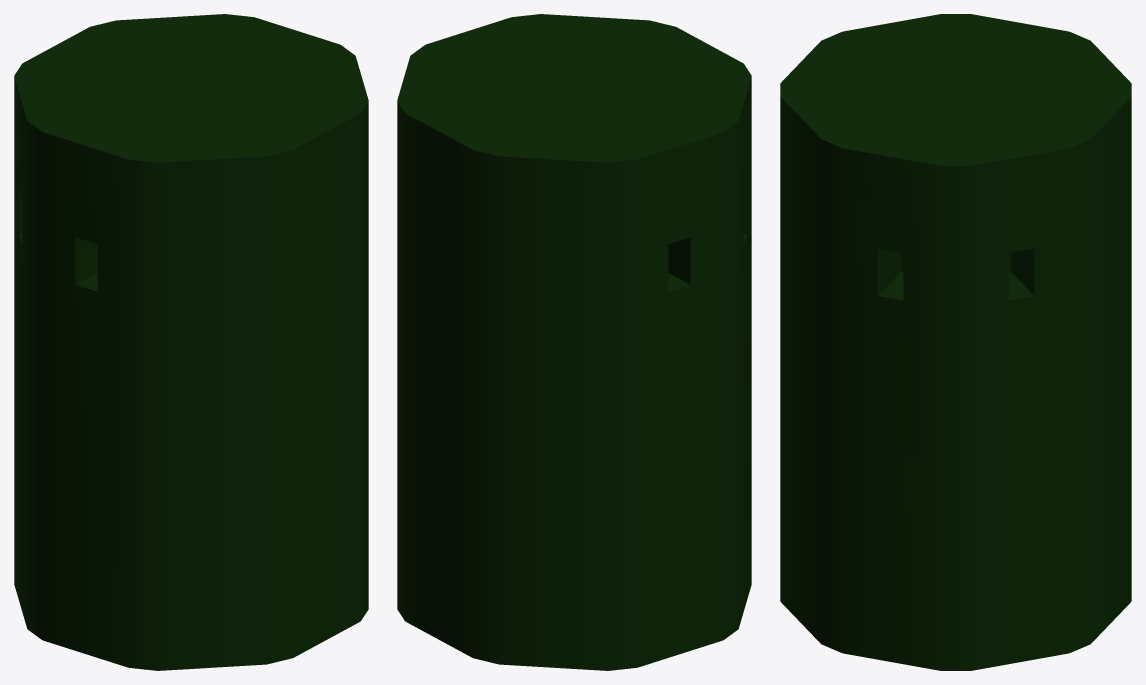
The model's file is round-tower-3.fbx.
The picture shows the model from 3 angles, left to right: view 1: azimuth 30°, elevation 25°; view 2: azimuth 150°, elevation 25°; view 3: azimuth 270°, elevation 25°; orthographic projection.
Visible parts, largest first — view 1: round-tower-3; view 2: round-tower-3; view 3: round-tower-3.
Part boxes in pixels (x1=…): round-tower-3: x1=14, y1=14, x2=368, y2=670; round-tower-3: x1=397, y1=14, x2=751, y2=670; round-tower-3: x1=780, y1=14, x2=1131, y2=670.
Size of the model in its own units: 5.55 by 8.6 by 5.43.
